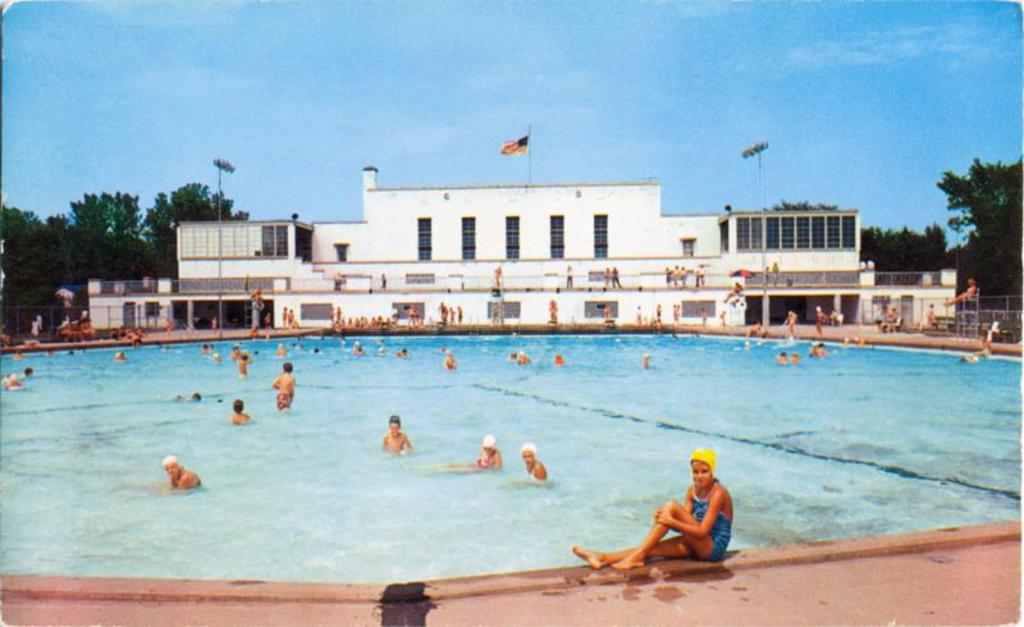Person: (0, 261, 999, 571), (570, 448, 733, 570)
